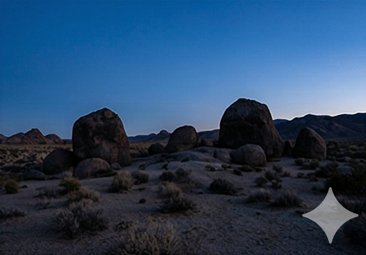rocks: (43, 108, 129, 177), (218, 98, 286, 165), (292, 127, 326, 159), (165, 126, 199, 152)
